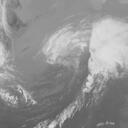cyclone: (42, 23, 117, 81)
